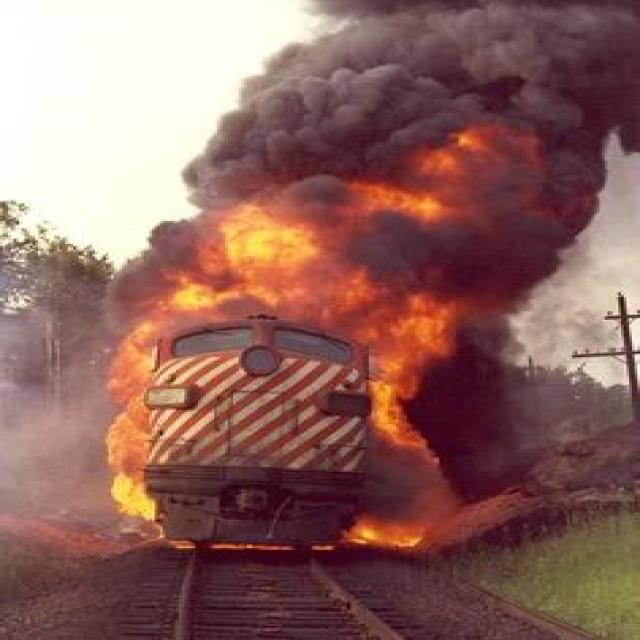Fire: (93, 234, 490, 566), (136, 4, 640, 228)
